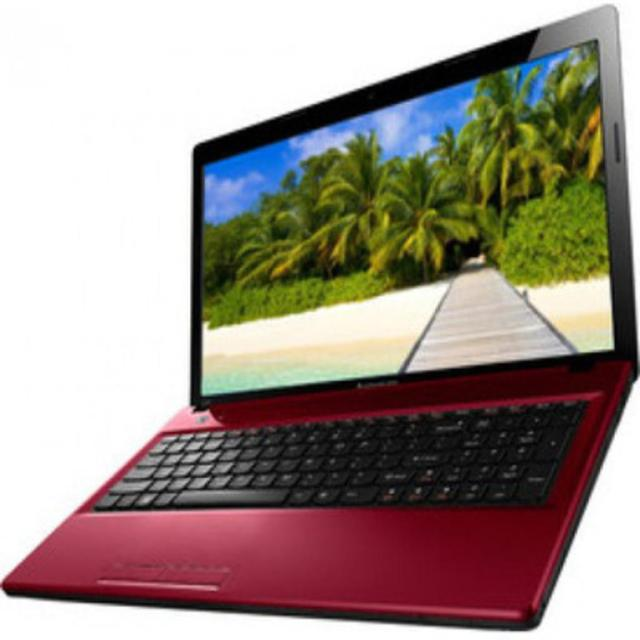laptop: (9, 7, 633, 627)
